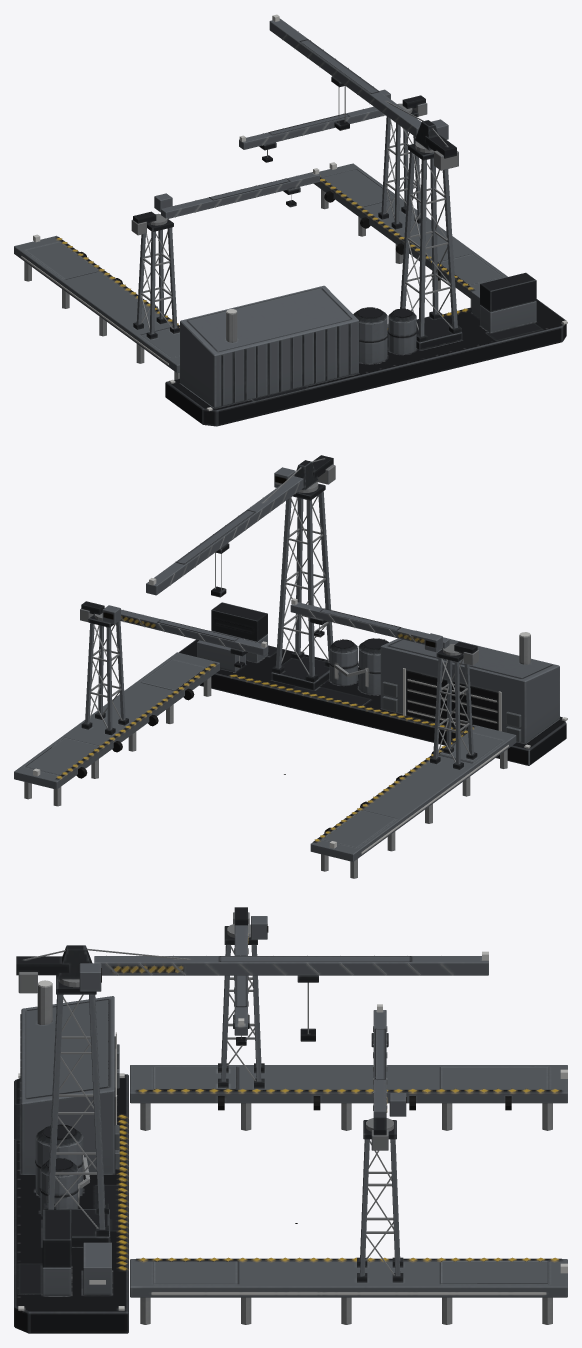
Rendered from chs_advshipyard.fbx.
3 views of the same model, one above another, from view 1: azimuth 30°, elevation 25°; view 2: azimuth 150°, elevation 25°; view 3: azimuth 270°, elevation 25° (orthographic). The views are drawn at different scales.
Visible parts, largest first — view 1: base_bar, jib_bar, jib1_bar, jib2_bar, base_glow_running_bar; view 2: base_bar, jib_bar, jib1_bar, jib2_bar, base_glow_power_bar; view 3: base_bar, jib_bar, jib2_bar, jib1_bar, base_glow_running_bar.
Boxes of the visible parts, x1,y1,x2,y2 form: base_bar: [14, 109, 566, 426]; jib_bar: [269, 18, 458, 170]; jib1_bar: [131, 172, 319, 235]; jib2_bar: [239, 89, 427, 162]; base_glow_running_bar: [21, 162, 567, 410]; base_bar: [14, 483, 566, 878]; jib_bar: [146, 455, 335, 597]; jib1_bar: [290, 602, 478, 665]; jib2_bar: [80, 601, 268, 668]; base_glow_power_bar: [334, 632, 530, 731]; base_bar: [14, 926, 567, 1333]; jib_bar: [16, 945, 488, 1041]; jib2_bar: [366, 1010, 406, 1150]; jib1_bar: [227, 907, 268, 1045]; base_glow_running_bar: [18, 1069, 567, 1310].
Bounding box in the file's own units: 4720 × 2920 × 4630.
2 materials, 2 textured.
